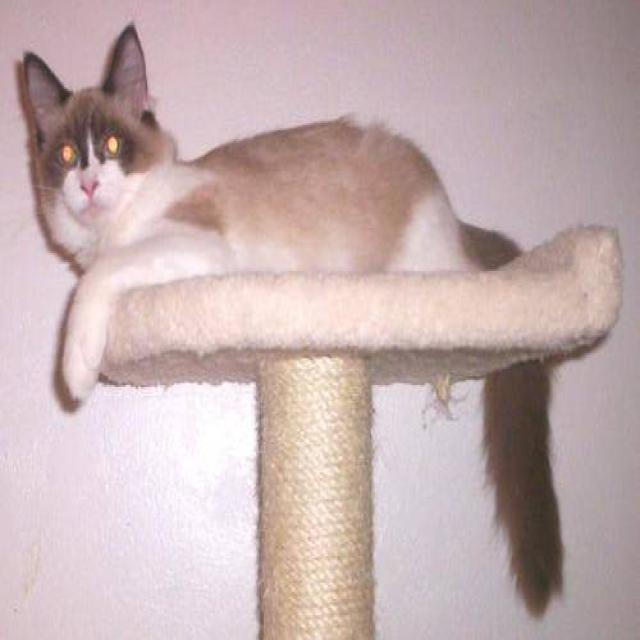cat: (14, 19, 570, 616)
